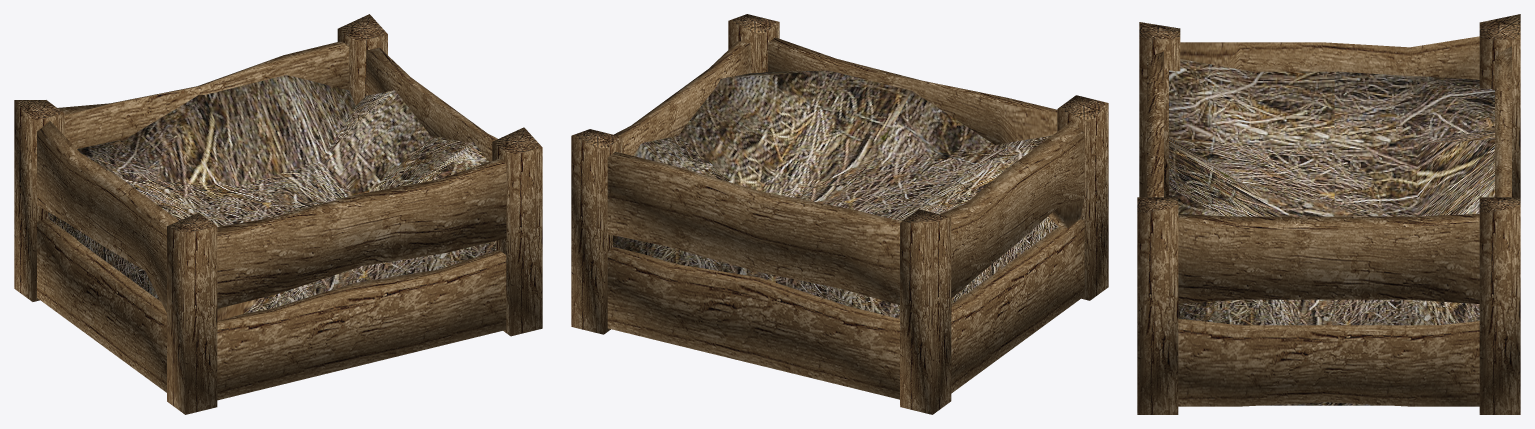
The model's file is egg_box.dae.
3 views of the same model, side by side, from view 1: azimuth 30°, elevation 25°; view 2: azimuth 150°, elevation 25°; view 3: azimuth 270°, elevation 25° (orthographic). The views are drawn at different scales.
Parts seen in each view (by area): view 1: meshU3D; view 2: meshU3D; view 3: meshU3D.
Boxes of the visible parts, <box> form: meshU3D: <box>14,14,542,414</box>; meshU3D: <box>571,14,1108,414</box>; meshU3D: <box>1137,14,1520,414</box>.
Bounding box in the file's own units: 1.41 × 0.7186 × 1.18.
